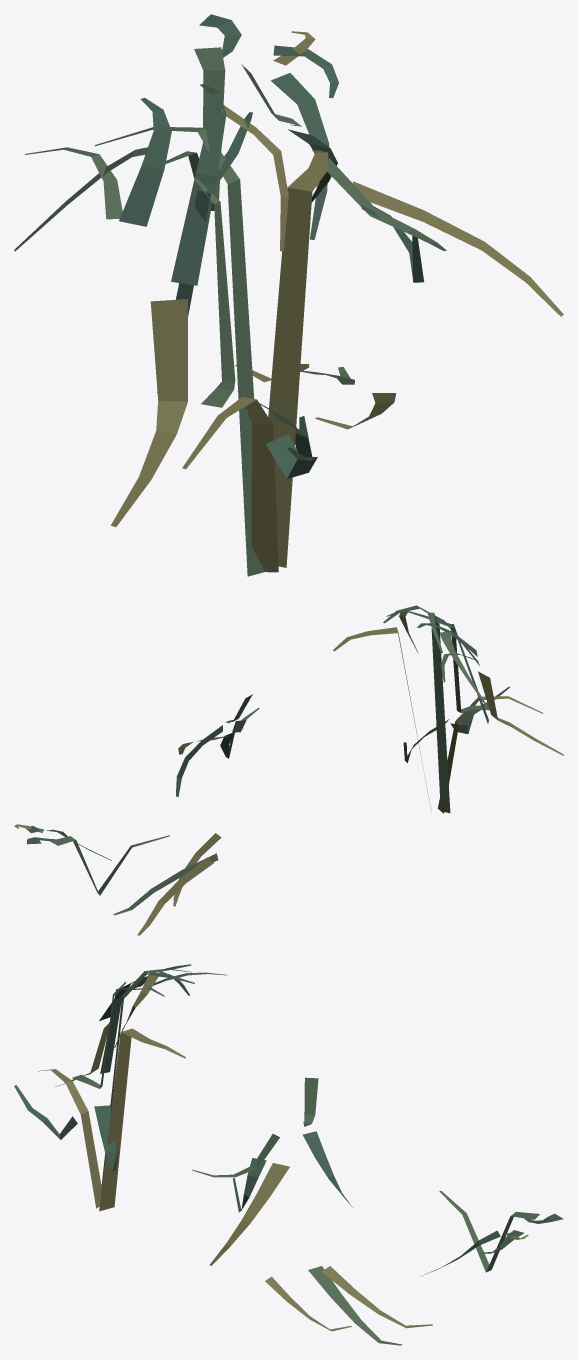
File: varech_ancien_corps.glb
3 views of the same model, one above another, from view 1: azimuth 30°, elevation 25°; view 2: azimuth 150°, elevation 25°; view 3: azimuth 270°, elevation 25° (orthographic). The views are drawn at different scales.
Parts seen in each view (by area): view 1: Varech accroché au poignet; view 2: Varech accroché au poignet; view 3: Varech accroché au poignet.
Part boxes in pixels (left/top/right/bottom): Varech accroché au poignet: left=14, top=14, right=563, bottom=576; Varech accroché au poignet: left=14, top=605, right=563, bottom=935; Varech accroché au poignet: left=14, top=964, right=563, bottom=1345.
Size of the model in its own units: 0.8752 by 0.6772 by 1.21.
